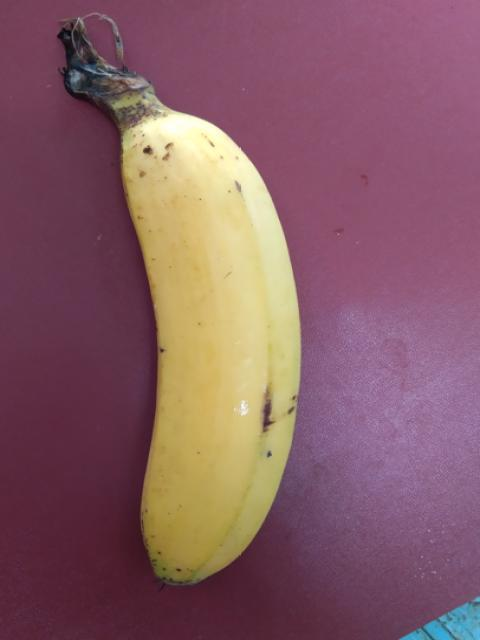freshripe: (96, 96, 324, 584)
